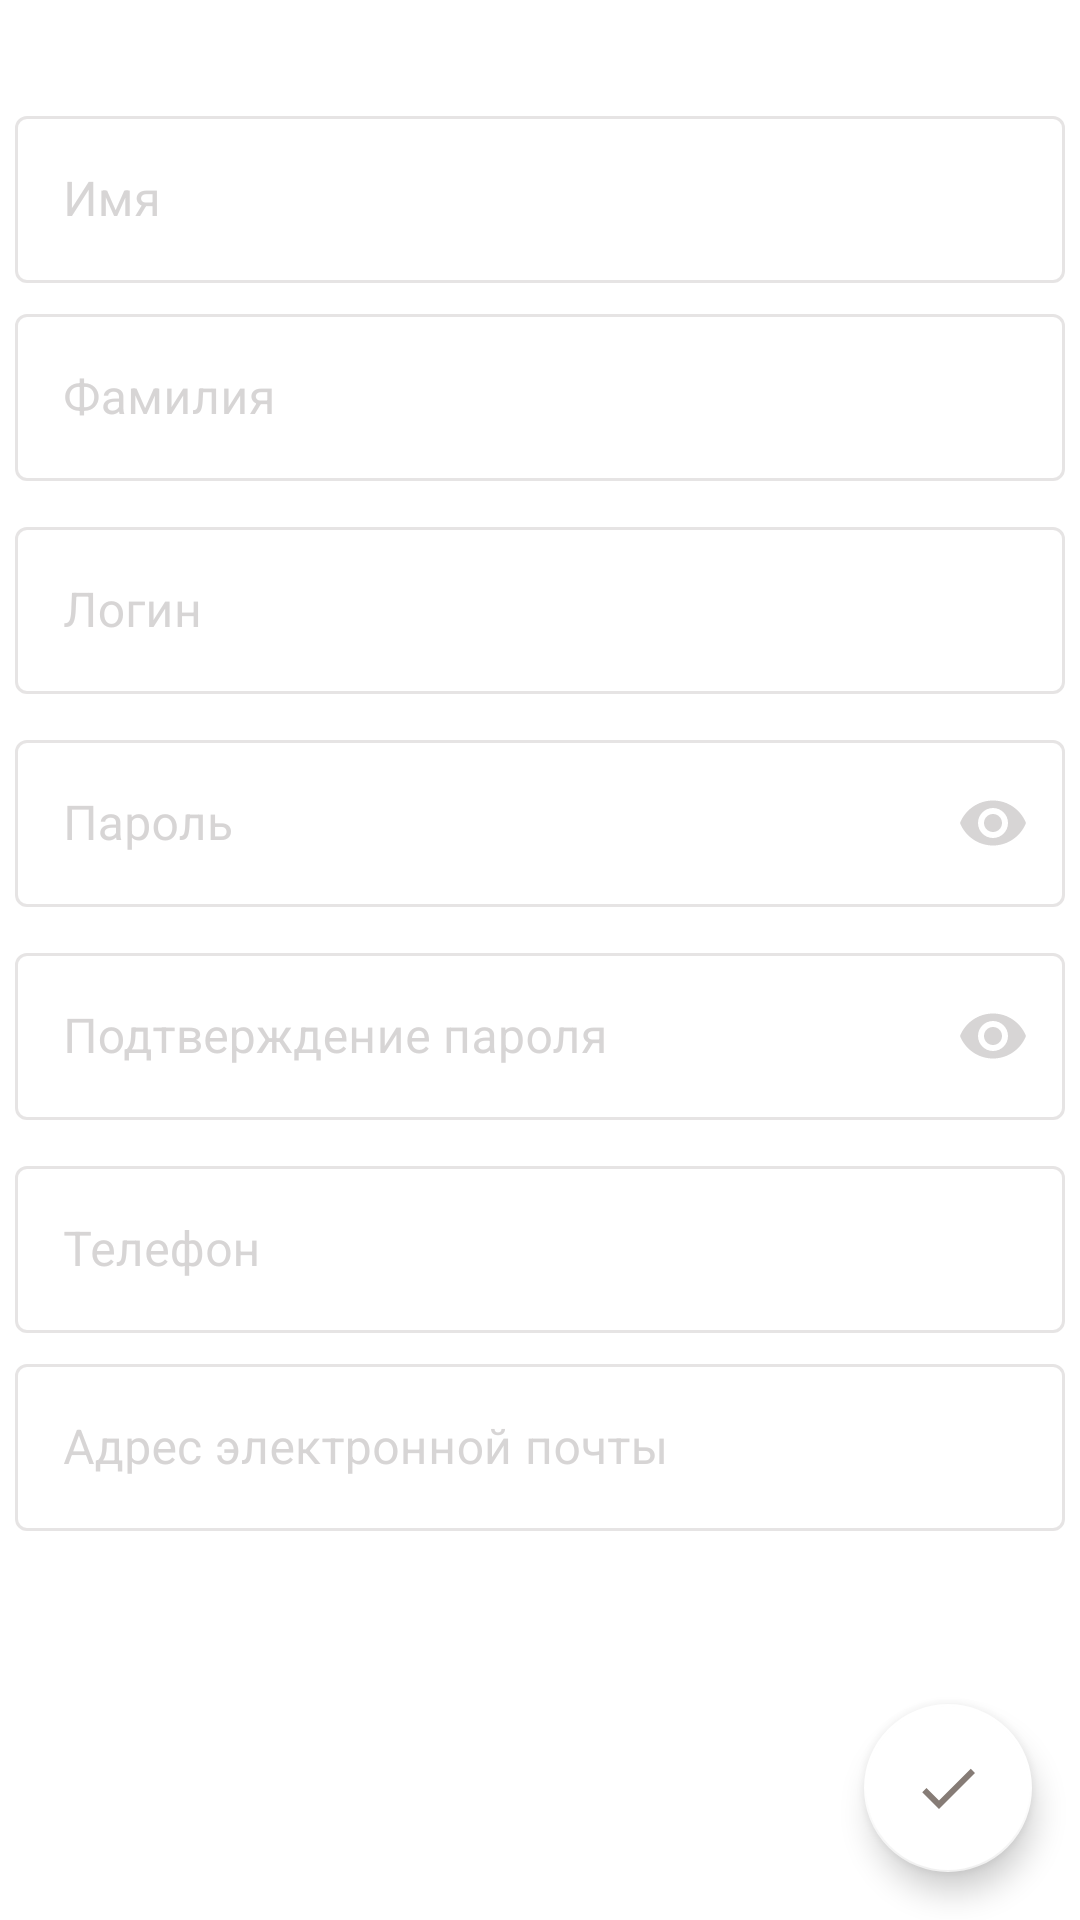

Icon click points for this 1080*1920 phone screenshot, format (x,y):
complete: (950,1820)
